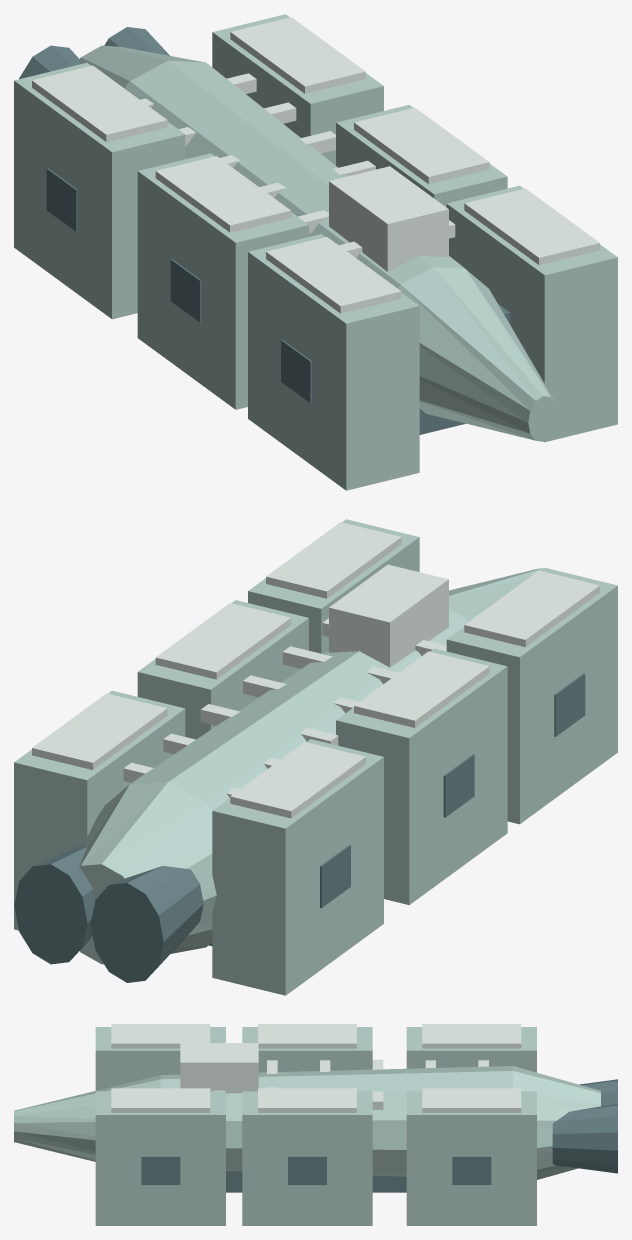
3 renders of one model, top to bottom at view 1: azimuth 30°, elevation 25°; view 2: azimuth 150°, elevation 25°; view 3: azimuth 270°, elevation 25°, orthographic. The views are drawn at different scales.
Size of the model in its own units: 3.17 by 2.14 by 9.07.
